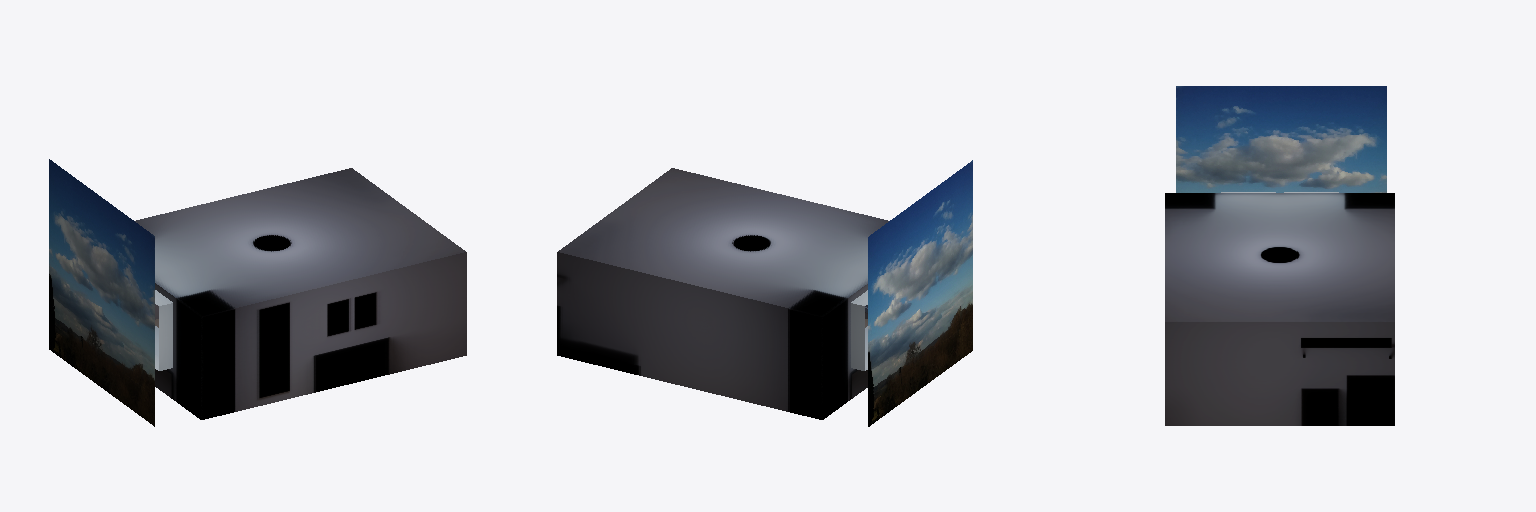
The picture shows the model from 3 angles: view 1: azimuth 30°, elevation 25°; view 2: azimuth 150°, elevation 25°; view 3: azimuth 270°, elevation 25°; orthographic projection.
Parts seen in each view (by area): view 1: Plane_Plane.001, Plane.001_Plane; view 2: Plane_Plane.001, Plane.001_Plane; view 3: Plane_Plane.001, Plane.001_Plane.
Part boxes in pixels (x1,y1,x2,y2): Plane_Plane.001: (135,168,466,419); Plane.001_Plane: (49,159,154,426); Plane_Plane.001: (557,168,888,419); Plane.001_Plane: (868,160,972,426); Plane_Plane.001: (1165,192,1394,425); Plane.001_Plane: (1176,86,1386,192).
Bounding box in the file's own units: 18.48 × 10.99 × 12.
Materials: 68 (63 with a texture image).